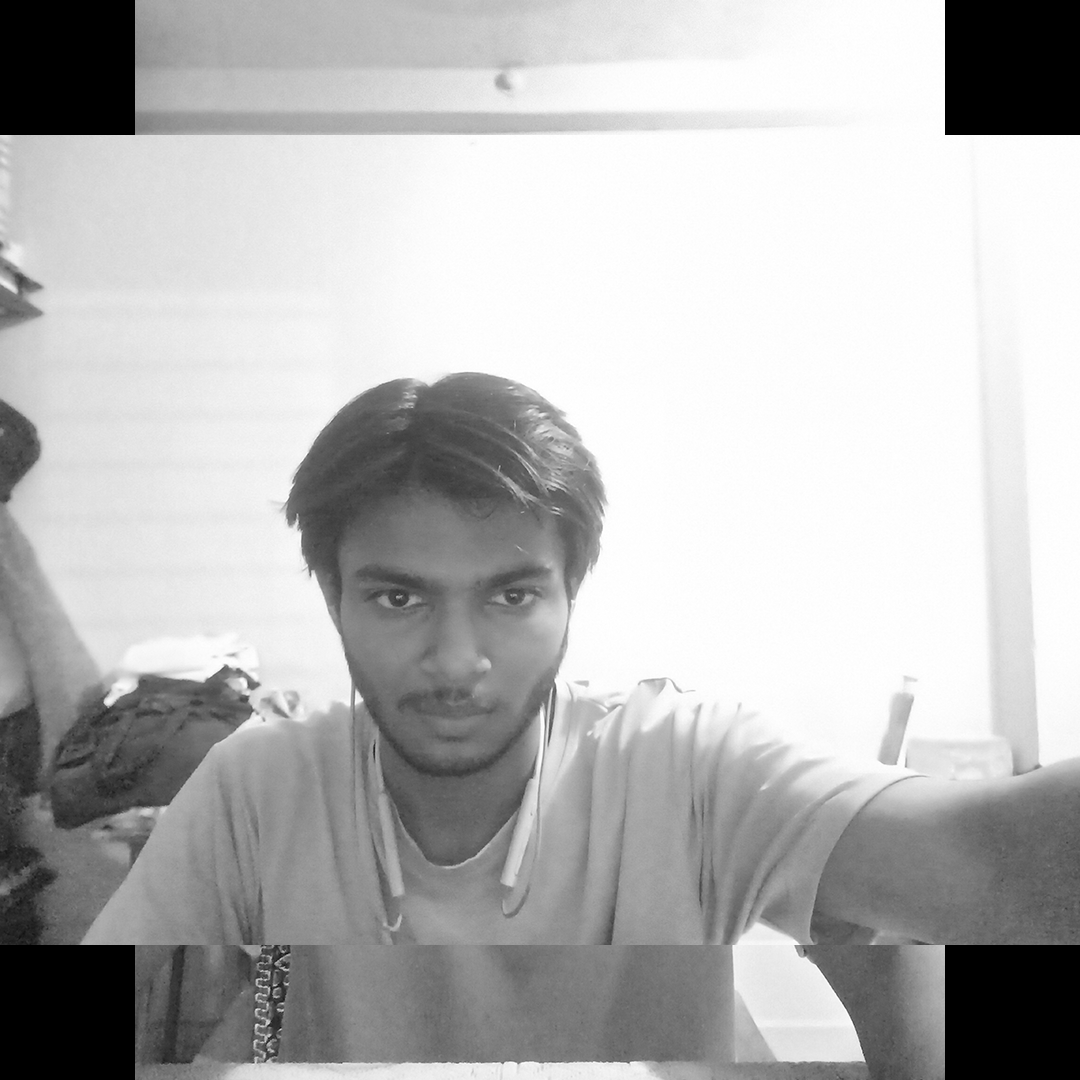Focused: (177, 290, 712, 926)
